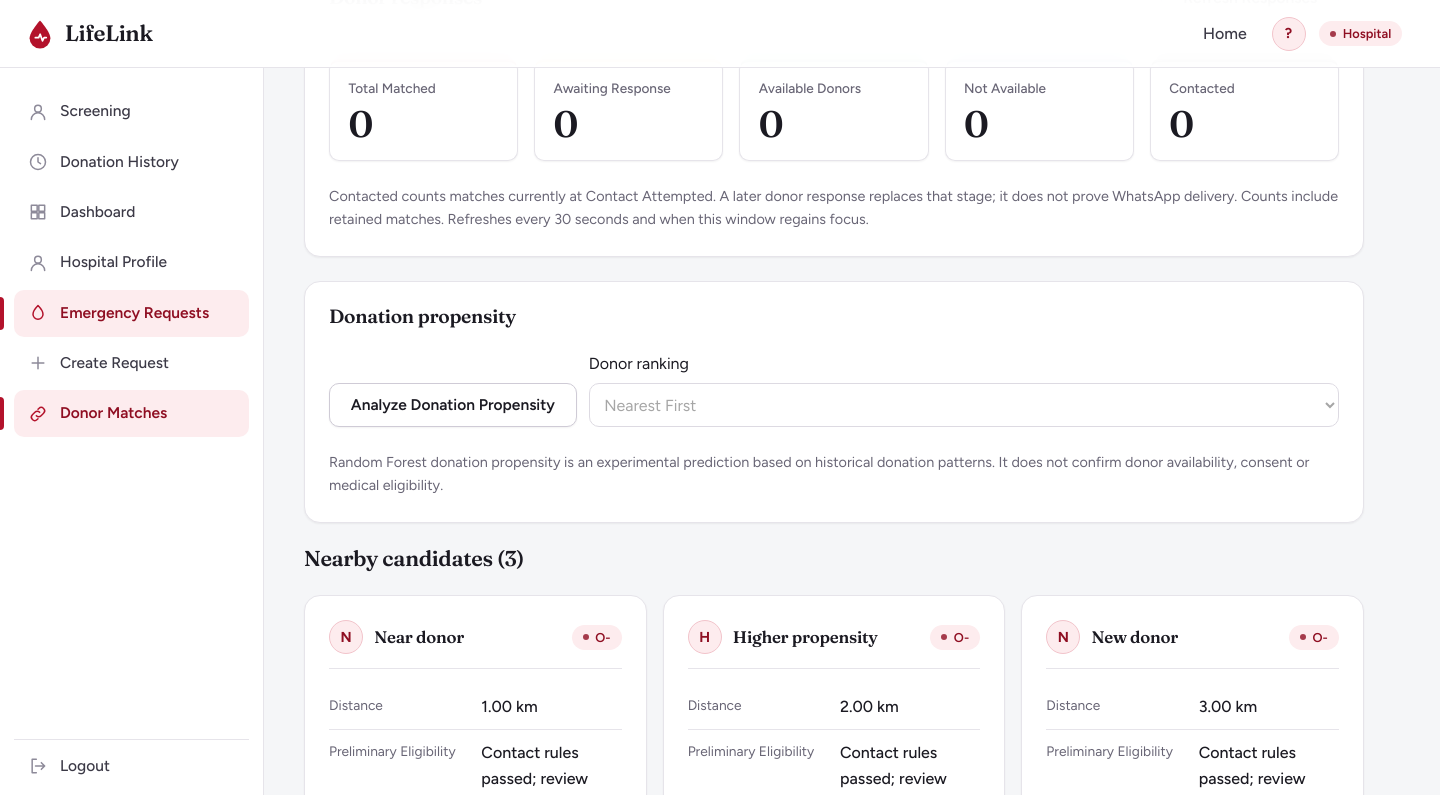
Test: model unavailable keeps matched donors and null scores
(page scrolled)
Click the button "Analyze Donation Propensity".
click(453, 405)  # box [329, 383, 577, 427]
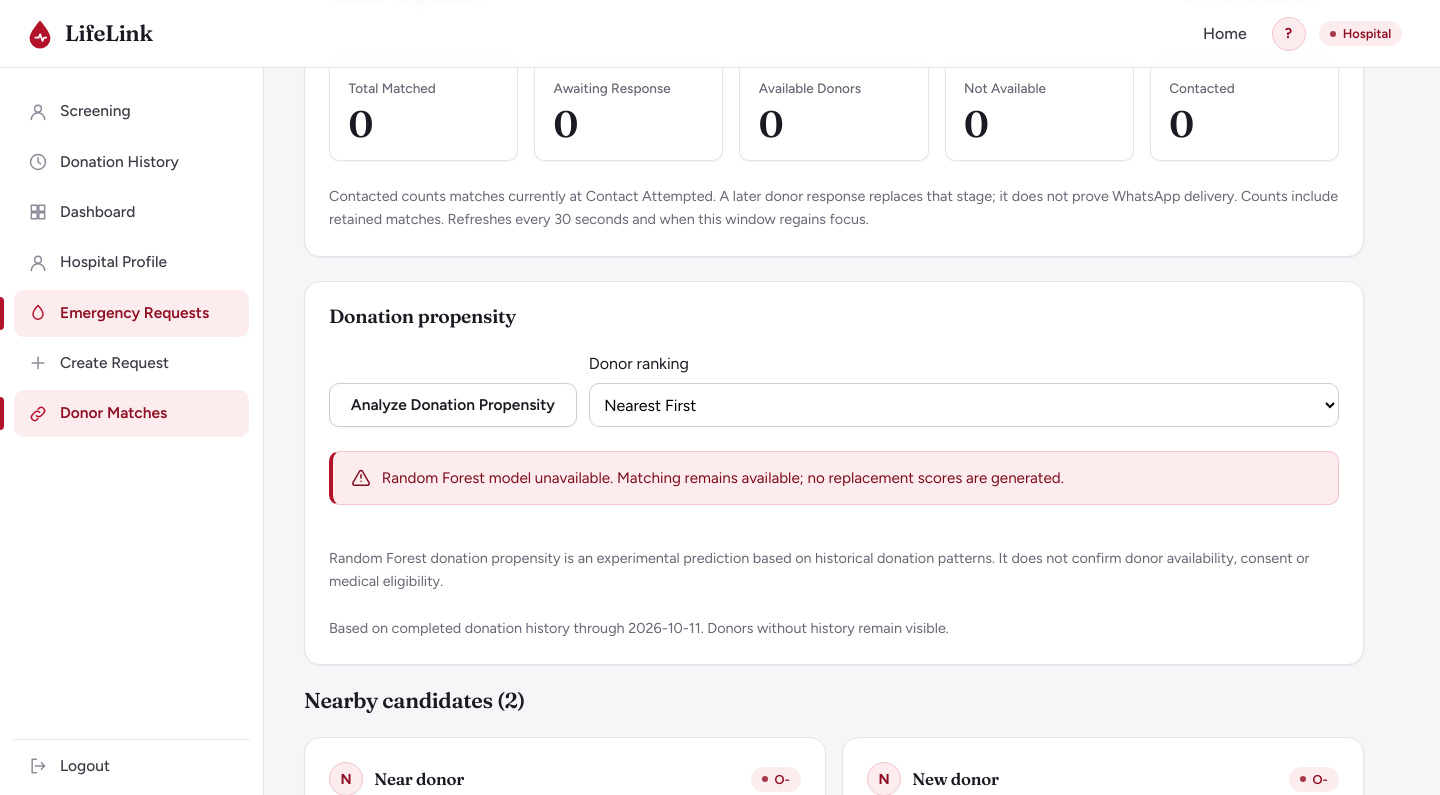
Expected: the heading "New donor" is shown, [912, 770, 999, 789]
Now the text "Random Forest model unavailable" is shown, box [382, 469, 1064, 487]
